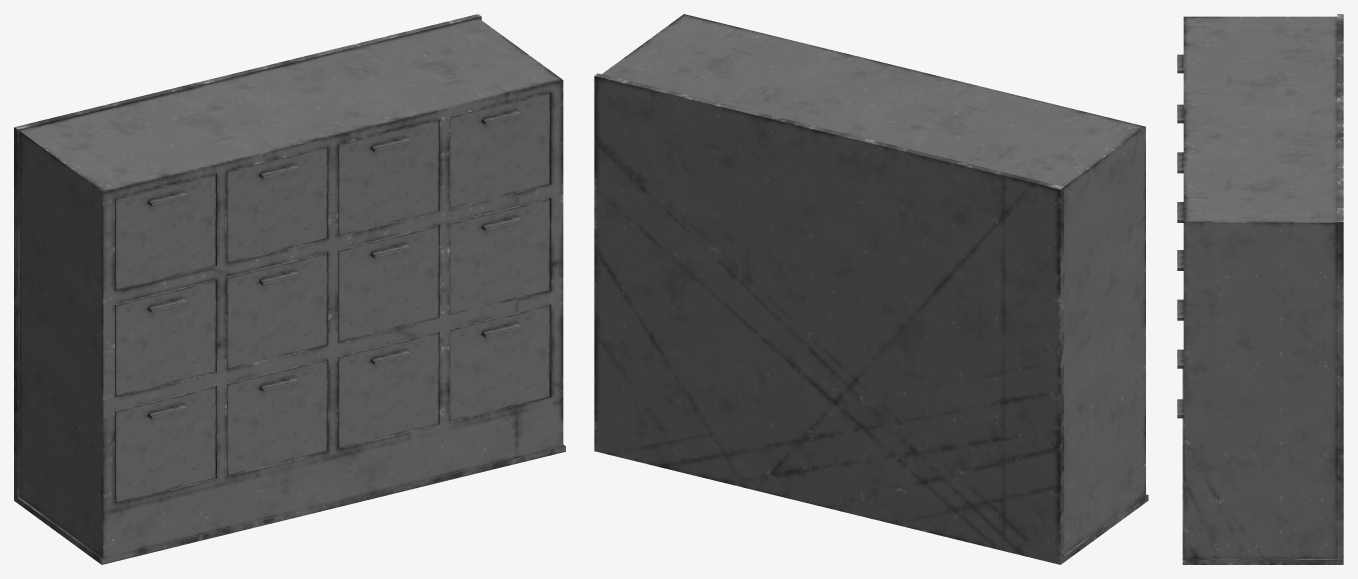
File: SheetRack_AA.fbx
The picture shows the model from 3 angles, left to right: view 1: azimuth 30°, elevation 25°; view 2: azimuth 150°, elevation 25°; view 3: azimuth 270°, elevation 25°; orthographic projection. The views are drawn at different scales.
Visible parts, largest first — view 1: SheetRack, SheetRackCase_7, SheetRackCase_6, SheetRackCase_5, SheetRackCase_8, SheetRackCase_9, SheetRackCase_12, SheetRackCase_10, SheetRackCase_11, SheetRackCase_2, SheetRackCase_4, SheetRackCase_1 (+1 smaller); view 2: SheetRack; view 3: SheetRack.
Boxes of the visible parts, x1,y1,x2,y2 form: SheetRack: (14,14,565,564); SheetRackCase_7: (338,225,438,341); SheetRackCase_6: (227,252,327,368); SheetRackCase_5: (115,280,215,396); SheetRackCase_8: (449,198,549,314); SheetRackCase_9: (115,386,215,502); SheetRackCase_12: (449,305,549,421); SheetRackCase_10: (227,359,327,475); SheetRackCase_11: (338,332,438,448); SheetRackCase_2: (227,147,327,262); SheetRackCase_4: (449,92,549,208); SheetRackCase_1: (115,174,215,289); SheetRack: (594,14,1148,564); SheetRack: (1182,14,1343,564).
Bounding box in the file's own units: 1.56 × 0.5287 × 1.2.
